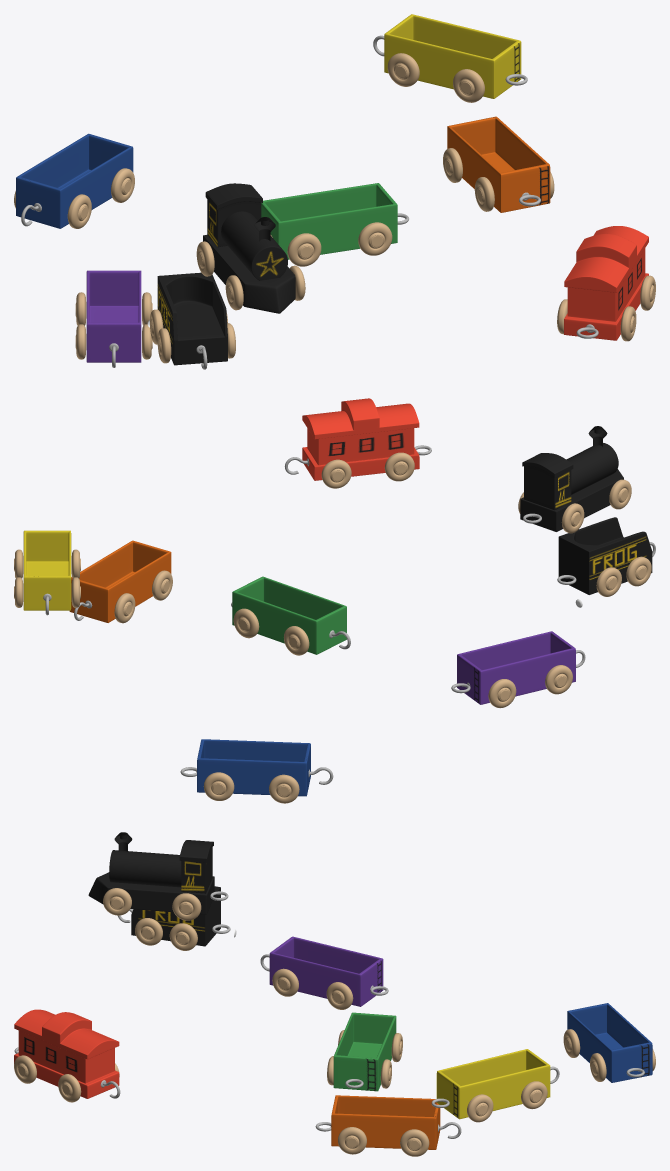
Rendered from trenino.fbx.
The picture shows the model from 3 angles, top to bottom: view 1: azimuth 30°, elevation 25°; view 2: azimuth 150°, elevation 25°; view 3: azimuth 270°, elevation 25°; orthographic projection. The views are drawn at different scales.
Visible parts, largest first — view 1: inizio, vagone7, vagonefinale, vagone2, vagone, vagone5, vagone6, vagone3; view 2: vagonefinale, inizio, vagone6, vagone, vagone2, vagone5, vagone3, vagone7; view 3: inizio, vagonefinale, vagone6, vagone7, vagone5, vagone, vagone2, vagone3.
Boxes of the visible parts, x1,y1,x2,y2 form: inizio: (196,183,305,313); vagone7: (373,14,527,102); vagonefinale: (557,226,655,341); vagone2: (261,183,408,266); vagone: (14,133,134,228); vagone5: (443,116,554,212); vagone6: (75,270,152,367); vagone3: (150,272,235,369); vagonefinale: (284,398,431,488); inizio: (518,426,631,533); vagone6: (451,631,585,708); vagone: (180,739,333,803); vagone2: (231,576,350,655); vagone5: (69,540,172,623); vagone3: (557,517,655,596); vagone7: (14,530,80,615); inizio: (88,832,228,920); vagonefinale: (14,1009,120,1102); vagone6: (260,936,388,1009); vagone7: (431,1049,559,1122); vagone5: (315,1095,461,1156); vagone: (563,1003,655,1082); vagone2: (327,1012,402,1091); vagone3: (118,886,230,950).
Bounding box in the file's own units: 2290 × 916 × 2827.
3 materials, 1 textured.
